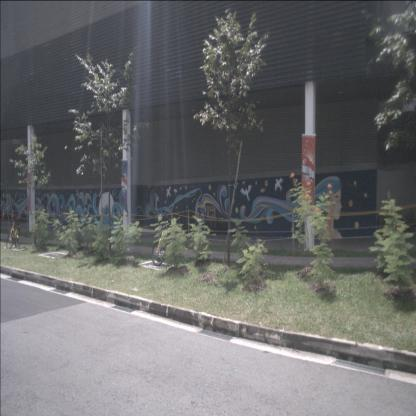cone: (10, 210, 15, 222), (18, 210, 22, 224), (1, 210, 6, 221)
